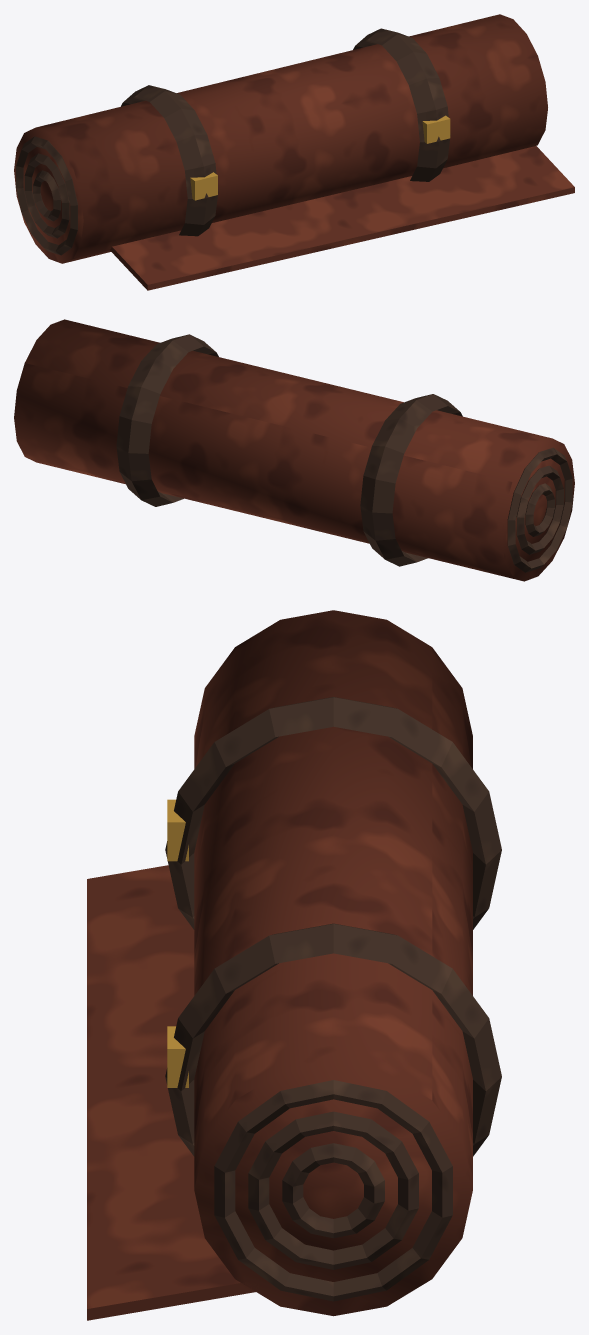
The model's file is leather_roll.glb.
3 renders of one model, top to bottom at view 1: azimuth 30°, elevation 25°; view 2: azimuth 150°, elevation 25°; view 3: azimuth 270°, elevation 25°, orthographic. The views are drawn at different scales.
Visible parts, largest first — view 1: leather_roll_rolled_leather; view 2: leather_roll_rolled_leather; view 3: leather_roll_rolled_leather.
Part boxes in pixels (bbox=[...]): leather_roll_rolled_leather: bbox=[14, 14, 574, 290]; leather_roll_rolled_leather: bbox=[14, 319, 574, 581]; leather_roll_rolled_leather: bbox=[87, 610, 501, 1320].
Size of what is drawn, in the model's own units: 1.02 by 0.314 by 0.387.
Materials: 3 (3 with a texture image).
